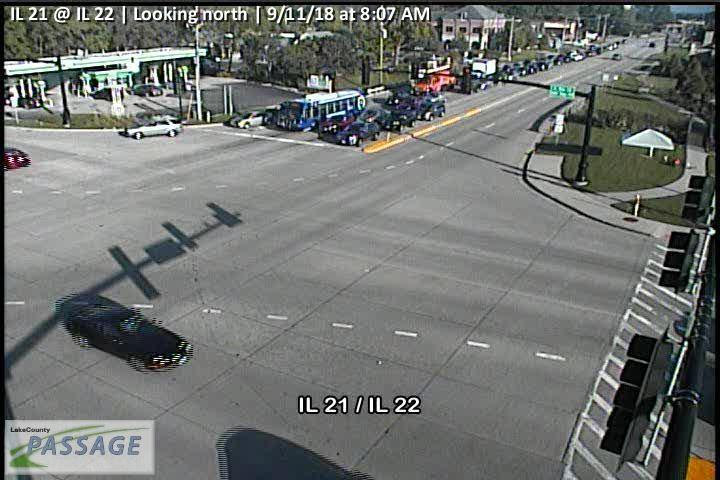Bus: (277, 89, 366, 132)
SUV: (318, 114, 354, 134), (417, 100, 446, 121)
Sedan: (65, 302, 194, 373), (125, 117, 183, 140), (334, 121, 380, 147), (229, 109, 274, 129), (382, 110, 417, 132)
